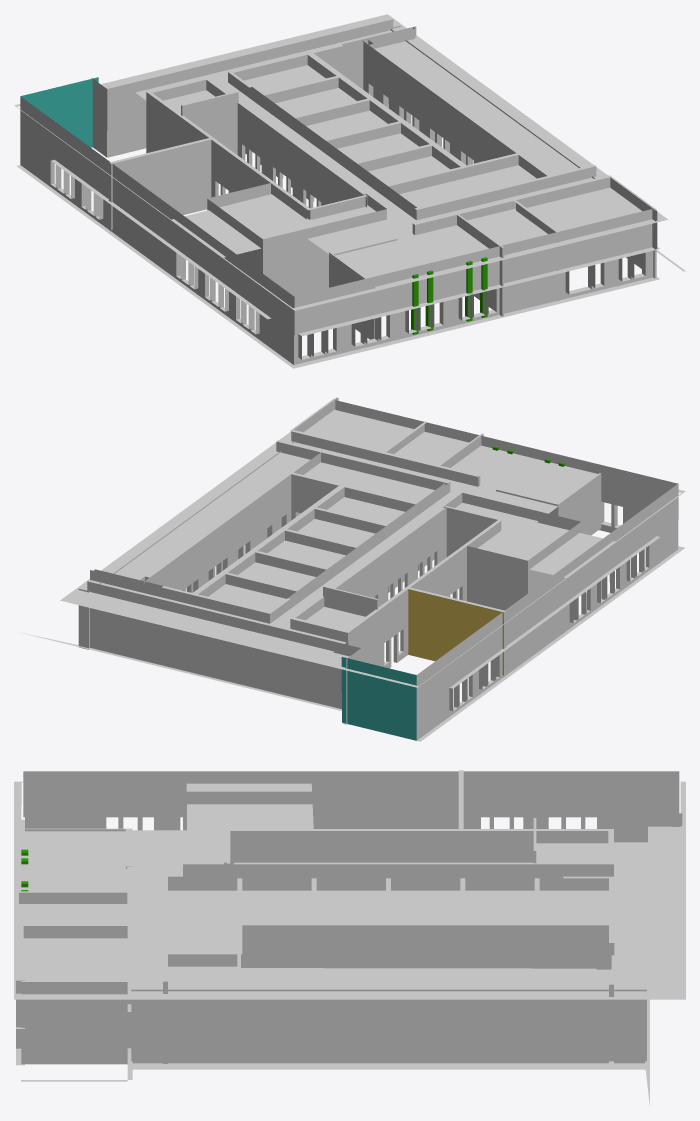
The model's file is PoloStructure.fbx.
3 views of the same model, one above another, from view 1: azimuth 30°, elevation 25°; view 2: azimuth 150°, elevation 25°; view 3: azimuth 270°, elevation 25° (orthographic). The views are drawn at different scales.
Parts seen in each view (by area): view 1: Structure; view 2: Structure; view 3: Structure.
Boxes of the visible parts, left/top/right/bottom form: Structure: left=14, top=14, right=685, bottom=368; Structure: left=19, top=397, right=685, bottom=741; Structure: left=14, top=770, right=685, bottom=1105.
Bounding box in the file's own units: 8801 × 7913 × 1418.
